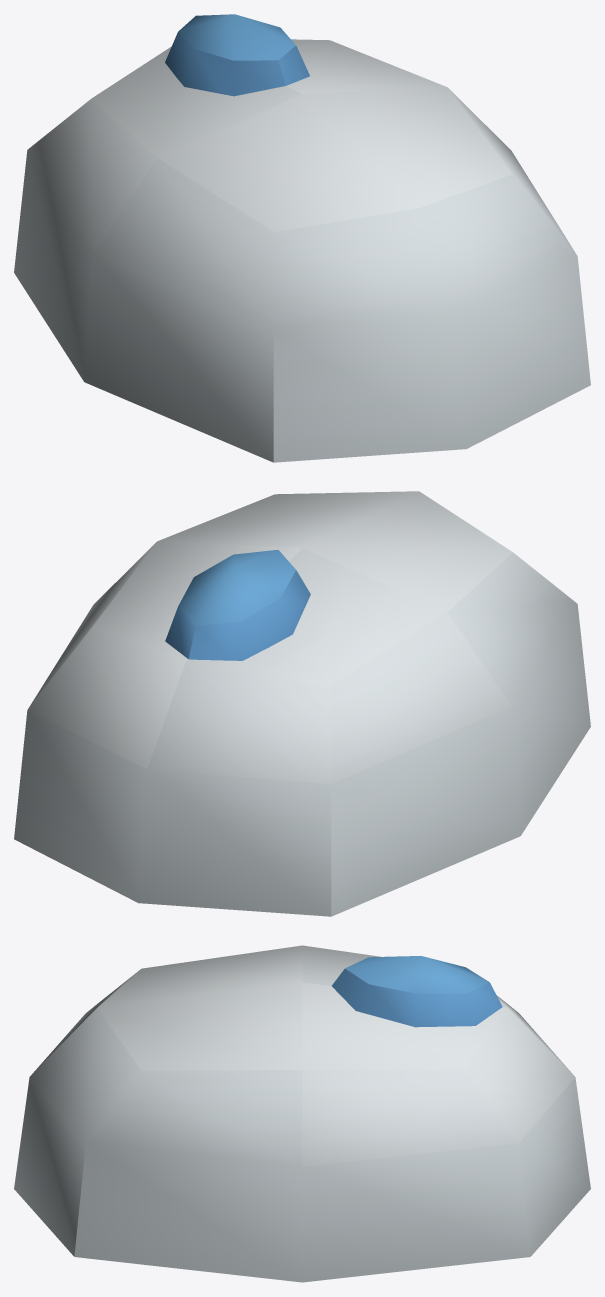
Rendered from mouse.glb.
3 renders of one model, top to bottom at view 1: azimuth 30°, elevation 25°; view 2: azimuth 150°, elevation 25°; view 3: azimuth 270°, elevation 25°, orthographic. The views are drawn at different scales.
Visible parts, largest first — view 1: mouse; view 2: mouse; view 3: mouse.
Boxes of the visible parts, bbox=[...] form: mouse: bbox=[14, 14, 590, 462]; mouse: bbox=[14, 491, 590, 916]; mouse: bbox=[14, 945, 590, 1282].
Size of the model in its own units: 0.2681 by 0.1715 by 0.3494.
Materials: 1 (1 with a texture image).
